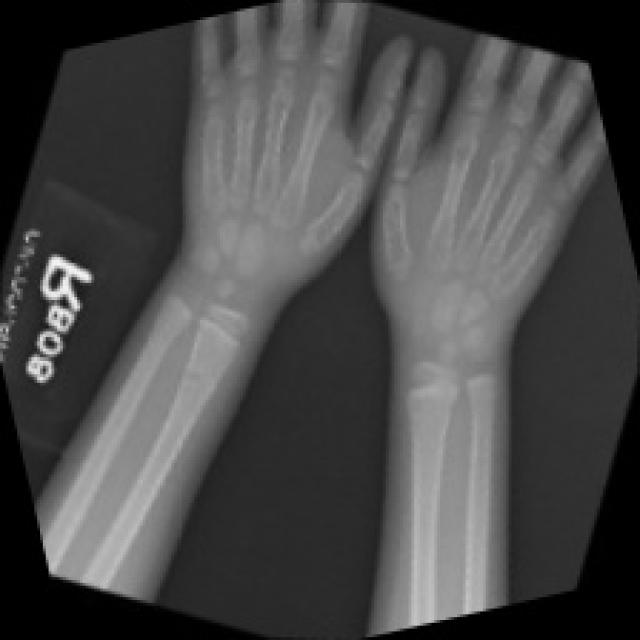fracture: (176, 348, 239, 425)
